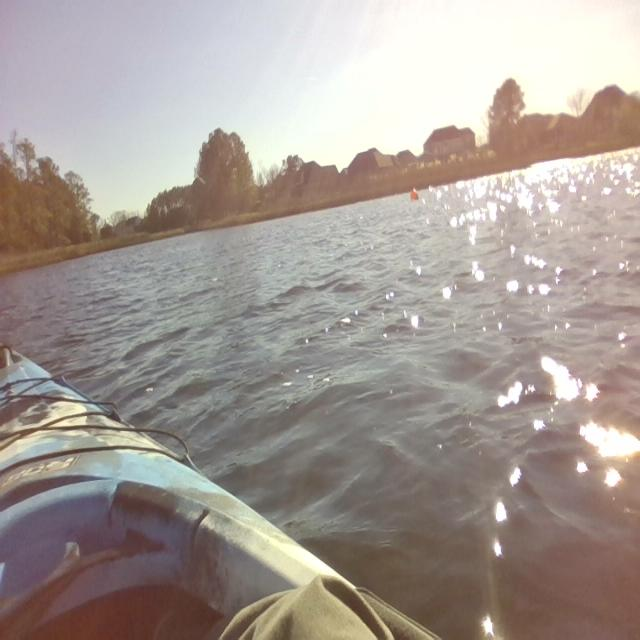Buoy: (407, 184, 424, 205)
